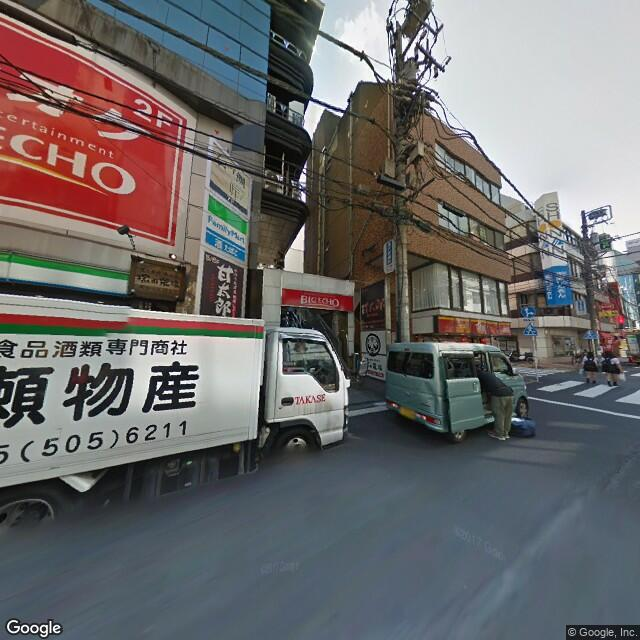family_mart: (204, 192, 246, 255)
